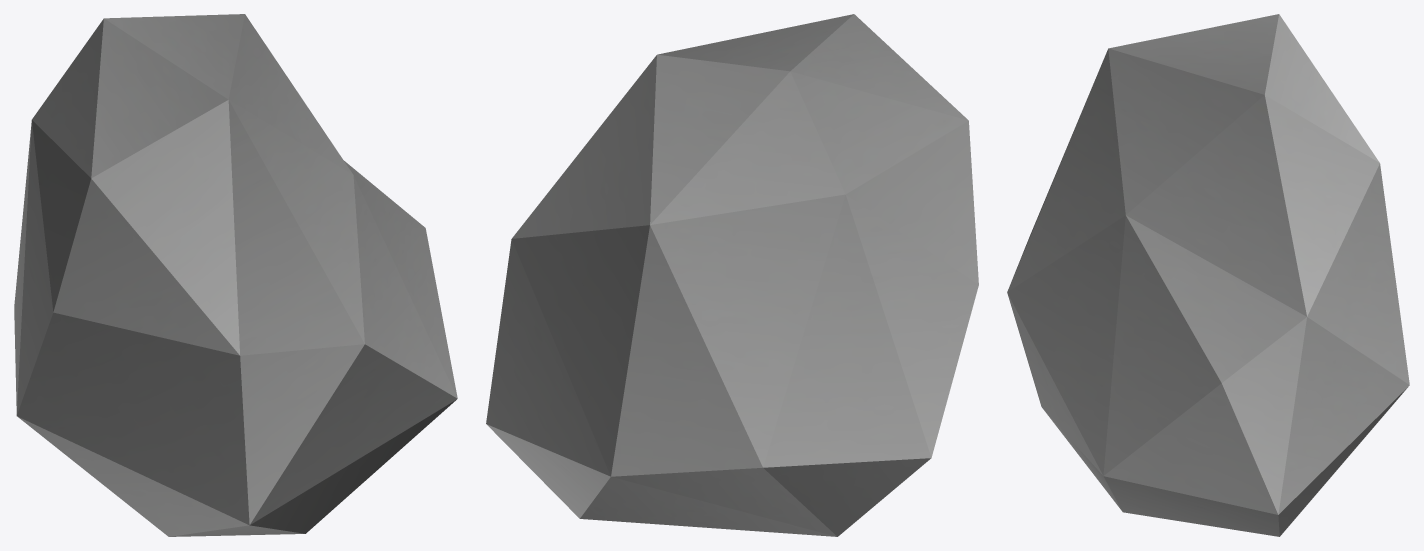
File: Rock_3.fbx
The picture shows the model from 3 angles, left to right: view 1: azimuth 30°, elevation 25°; view 2: azimuth 150°, elevation 25°; view 3: azimuth 270°, elevation 25°; orthographic projection. The views are drawn at different scales.
Parts seen in each view (by area): view 1: Rock 3; view 2: Rock 3; view 3: Rock 3.
Boxes of the visible parts, x1=… form: Rock 3: x1=14, y1=14, x2=457, y2=536; Rock 3: x1=486, y1=14, x2=978, y2=536; Rock 3: x1=1007, y1=14, x2=1409, y2=536.
Bounding box in the file's own units: 6.68 × 7.6 × 6.23.
